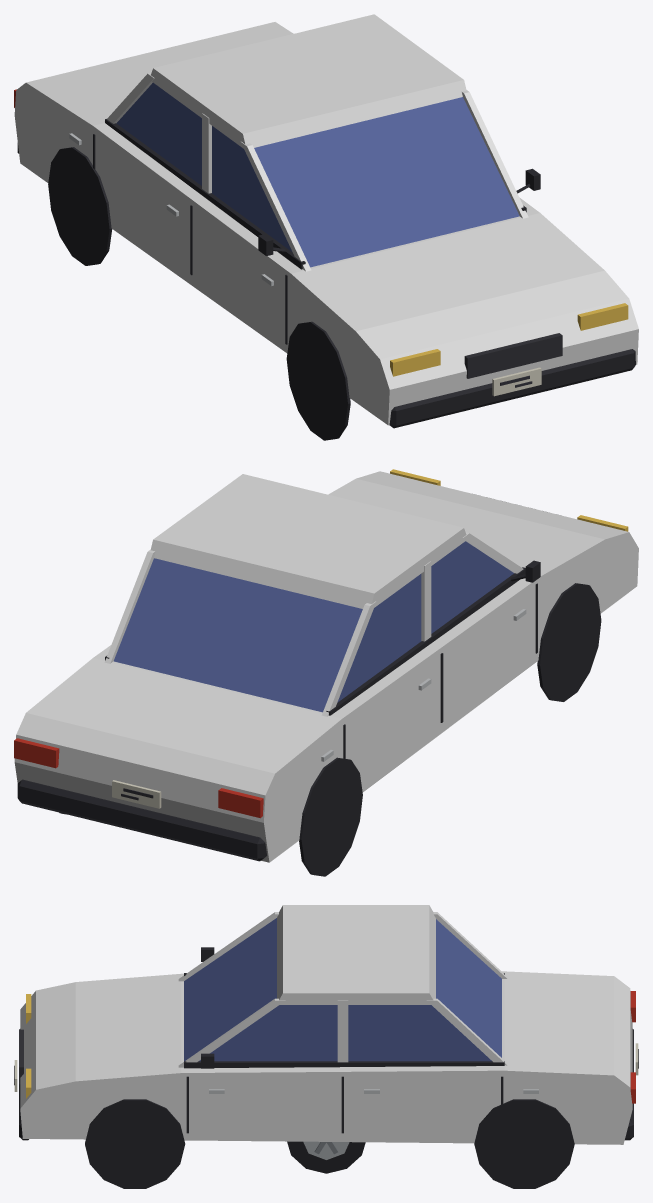
The model's file is sedan.glb.
The picture shows the model from 3 angles, top to bottom: view 1: azimuth 30°, elevation 25°; view 2: azimuth 150°, elevation 25°; view 3: azimuth 270°, elevation 25°; orthographic projection. The views are drawn at different scales.
Visible parts, largest first — view 1: paint, body, lights; view 2: paint, body, lights; view 3: paint, body, wheel0, lights.
Part boxes in pixels (x1,y1,x2,y2): paint: (14,14,638,425); body: (17,82,635,440); lights: (14,89,628,376); paint: (14,471,638,862); body: (17,541,601,876); lights: (14,469,628,818); paint: (20,905,632,1144); body: (14,918,638,1188); wheel0: (287,1141,365,1173); lights: (26,991,635,1103).
Size of the model in its own units: 1.96 by 1.83 by 4.73.
